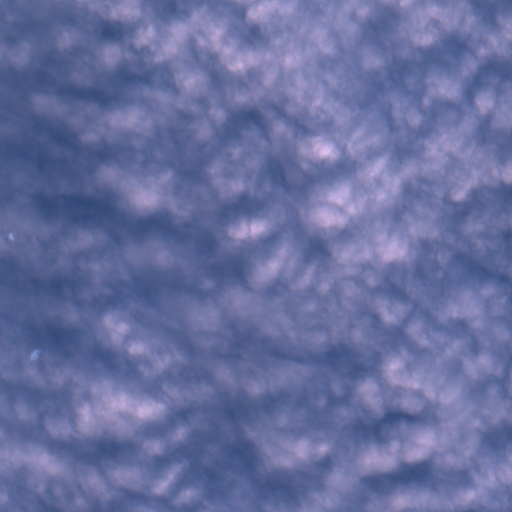Iceberg: (30, 349, 40, 360), (9, 233, 13, 240)
